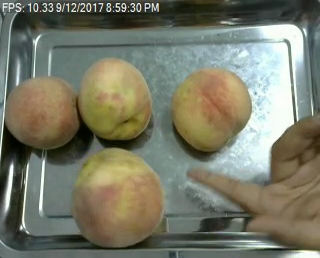Peach: (71, 147, 164, 247), (171, 69, 253, 151), (78, 58, 151, 140), (4, 74, 80, 150)
